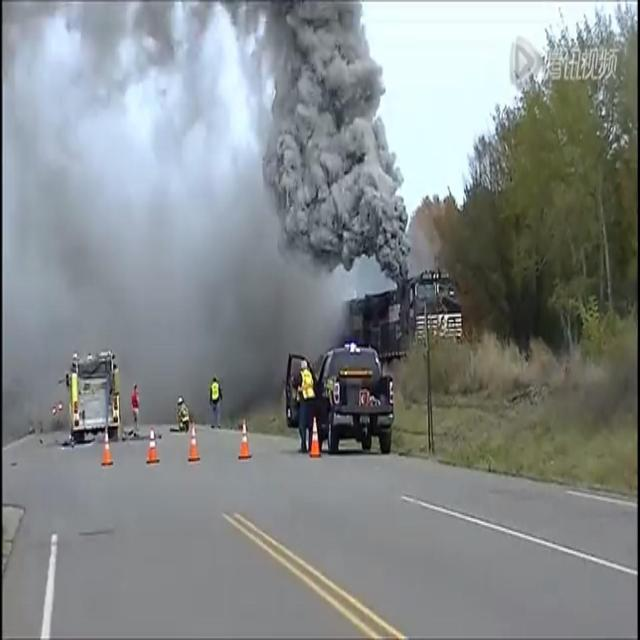Smoke: (1, 1, 440, 426)
